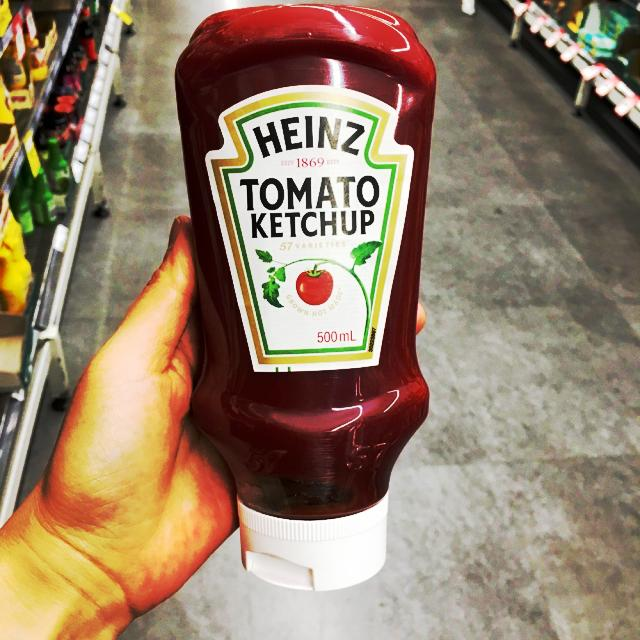ketchup: (171, 2, 436, 594)
